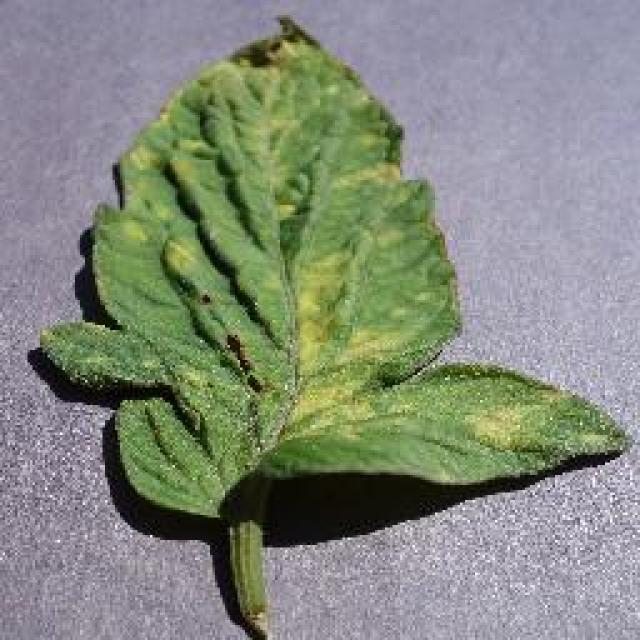Tomato___Leaf_Mold: (40, 18, 625, 635)
